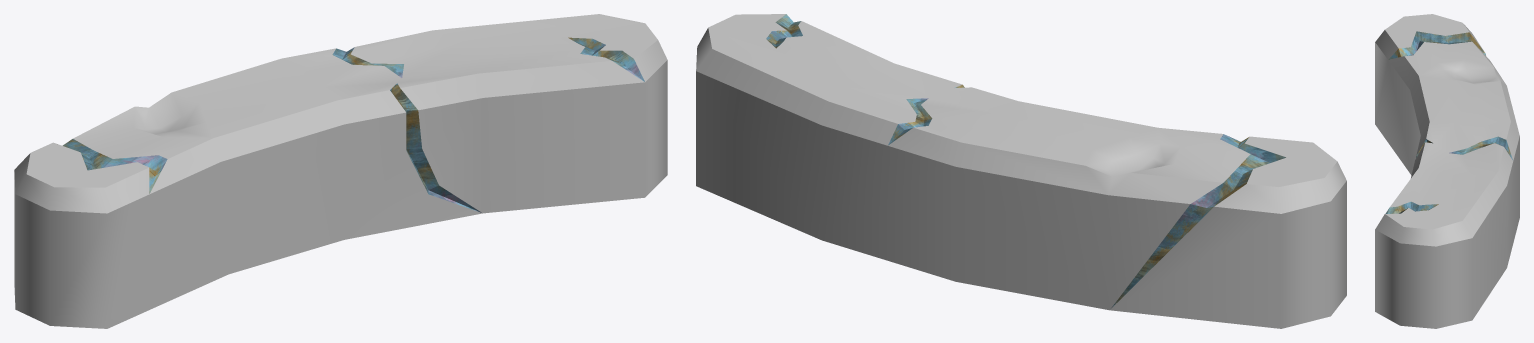
File: Str_Stand_Base_Art.fbx
The picture shows the model from 3 angles, left to right: view 1: azimuth 30°, elevation 25°; view 2: azimuth 150°, elevation 25°; view 3: azimuth 270°, elevation 25°; orthographic projection. The views are drawn at different scales.
Visible parts, largest first — view 1: Str_Stand_Base; view 2: Str_Stand_Base; view 3: Str_Stand_Base.
Boxes of the visible parts, x1,y1,x2,y2 form: Str_Stand_Base: (14,14,667,328); Str_Stand_Base: (696,14,1346,328); Str_Stand_Base: (1375,14,1519,328).
Size of what is drawn, in the model's own units: 1769 by 359 by 488.
